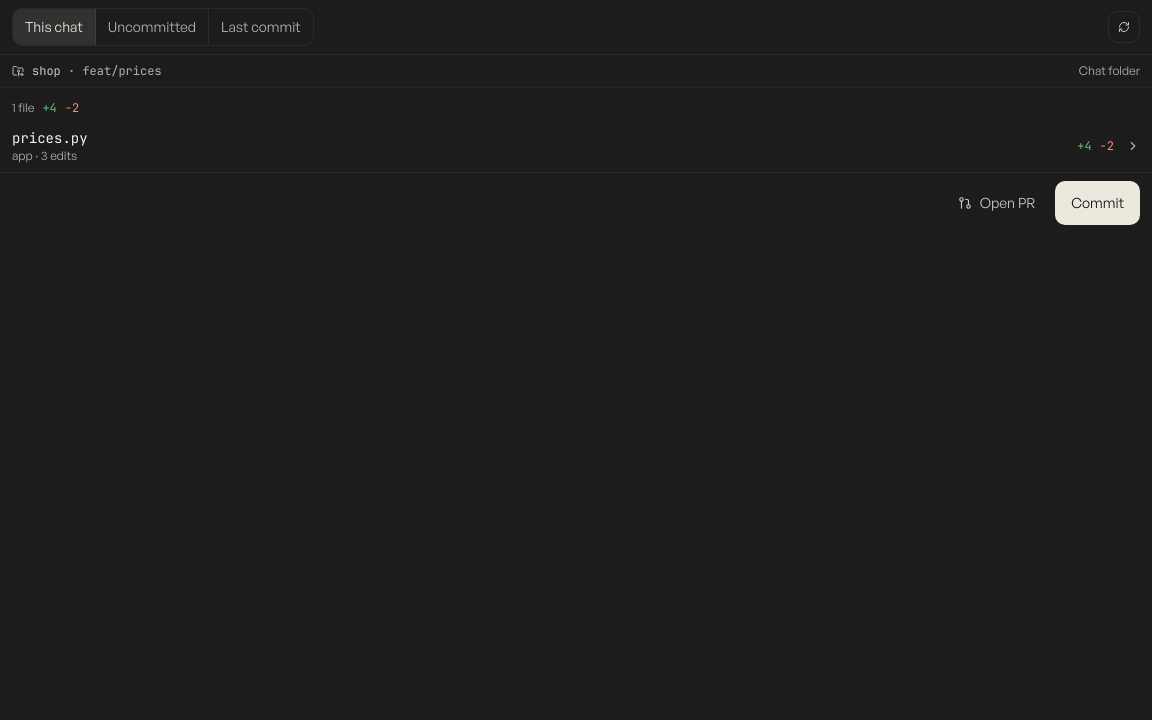
Scenario: Revert file › asks first — the sheet names the file and how many edits it undoes
Click the button with test id "chat-change-row": {"x": 50, "y": 138} [0,120,1151,172]
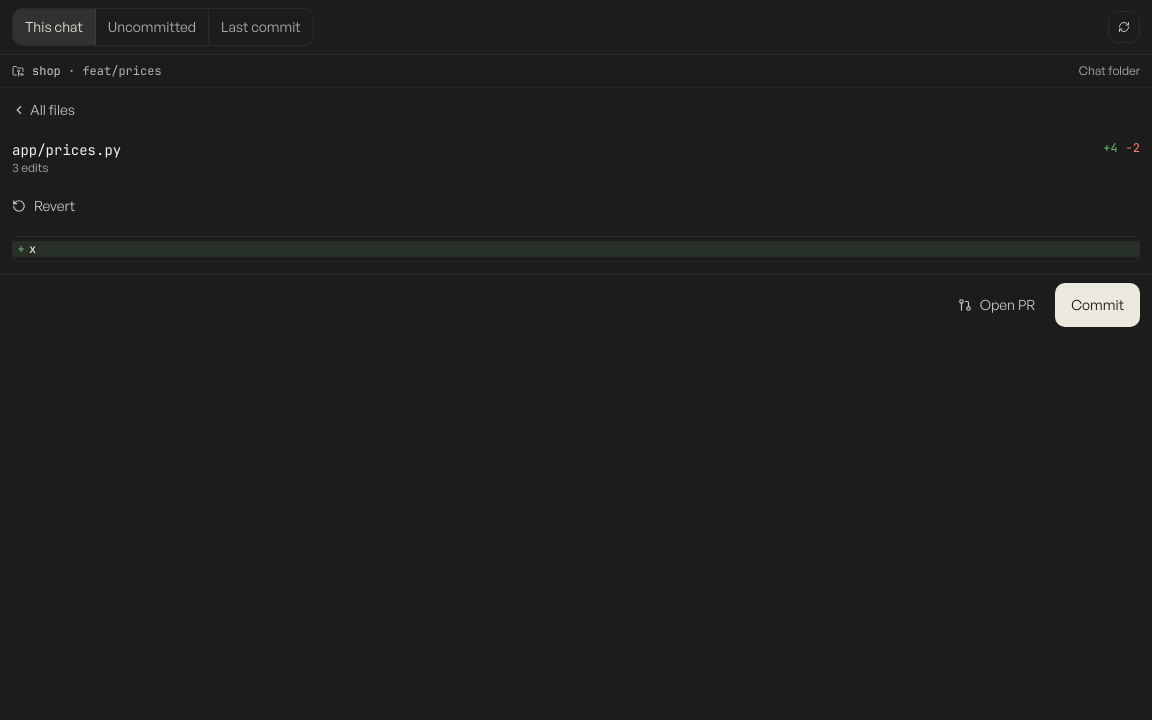
Click the button with test id "chat-change-revert": {"x": 44, "y": 206} [0,184,87,228]
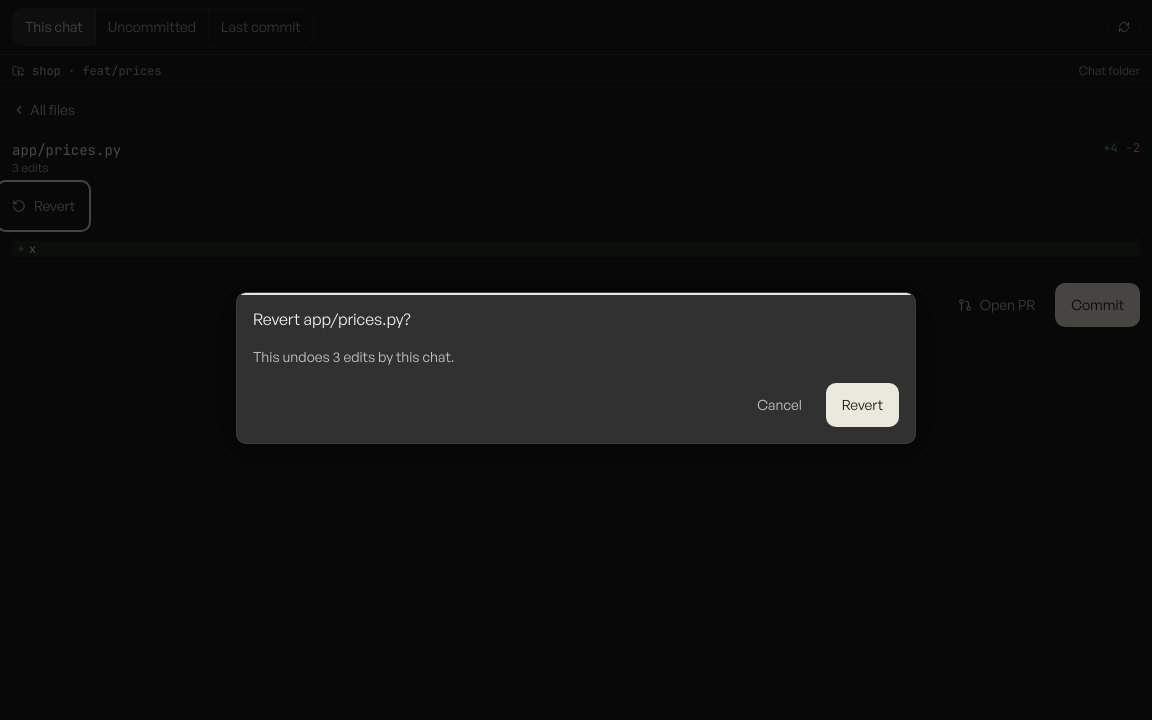
Result: the heading "Revert app/prices.py?" is shown at [253,309,410,329]
Result: the text "This undoes 3 edits by this chat." is shown at [253,348,454,365]
